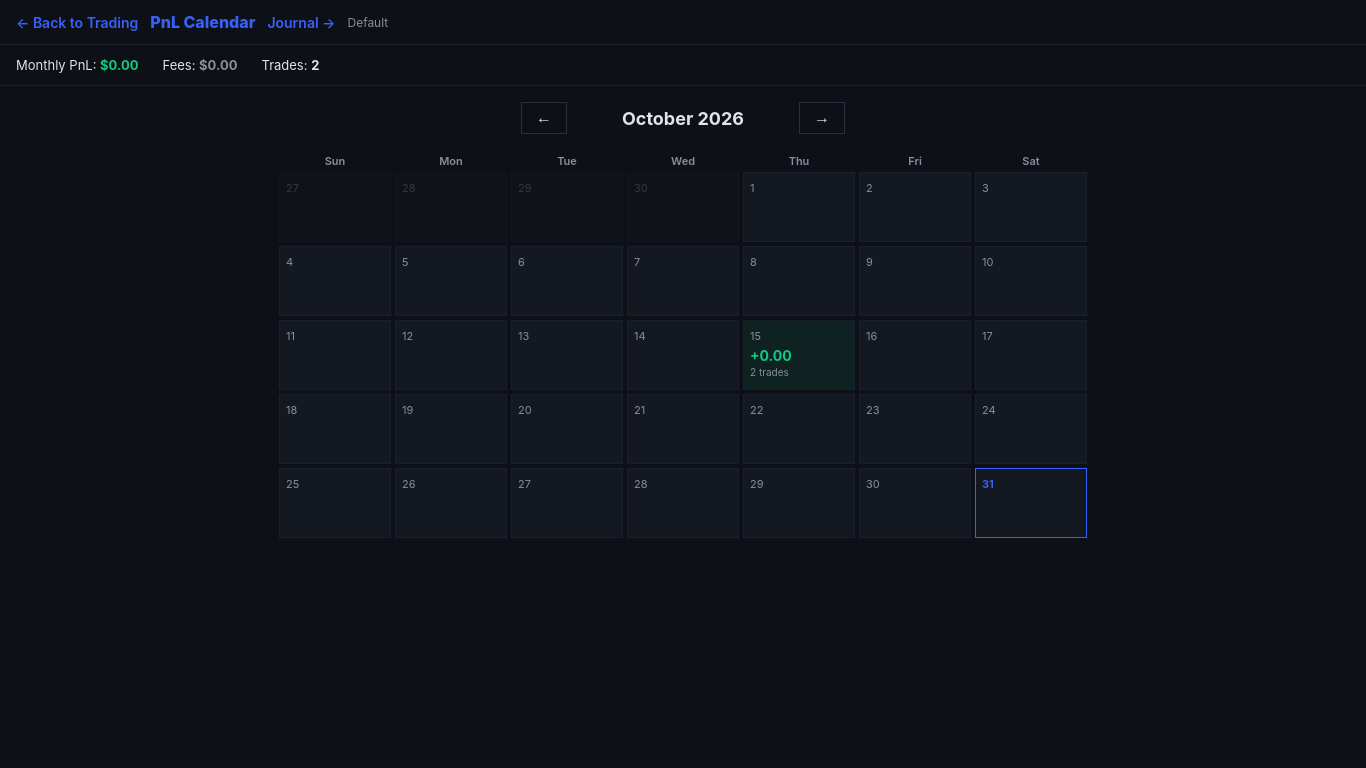
Scenario: PnlCalendar — spread group rendering › expands and collapses a spread to show individual leg rows on click
The image size is (1366, 768).
Click the element showing "15 +0.00 2 trades".
click(799, 355)  # box [743,320,855,390]
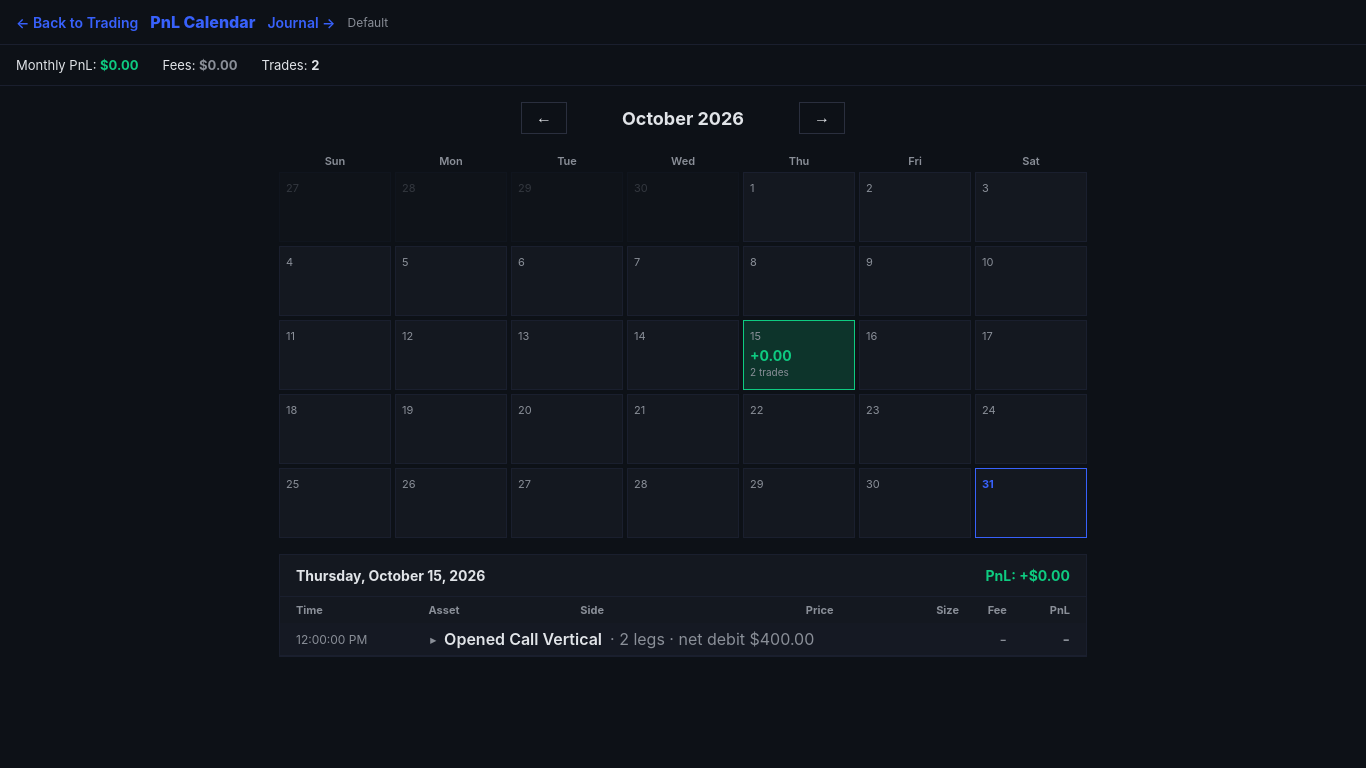
Expected: the text "$6.00" is not shown
Expected: the text "$2.00" is not shown
Click the row titled "expand legs".
click(683, 639)  # box [280,623,1086,656]
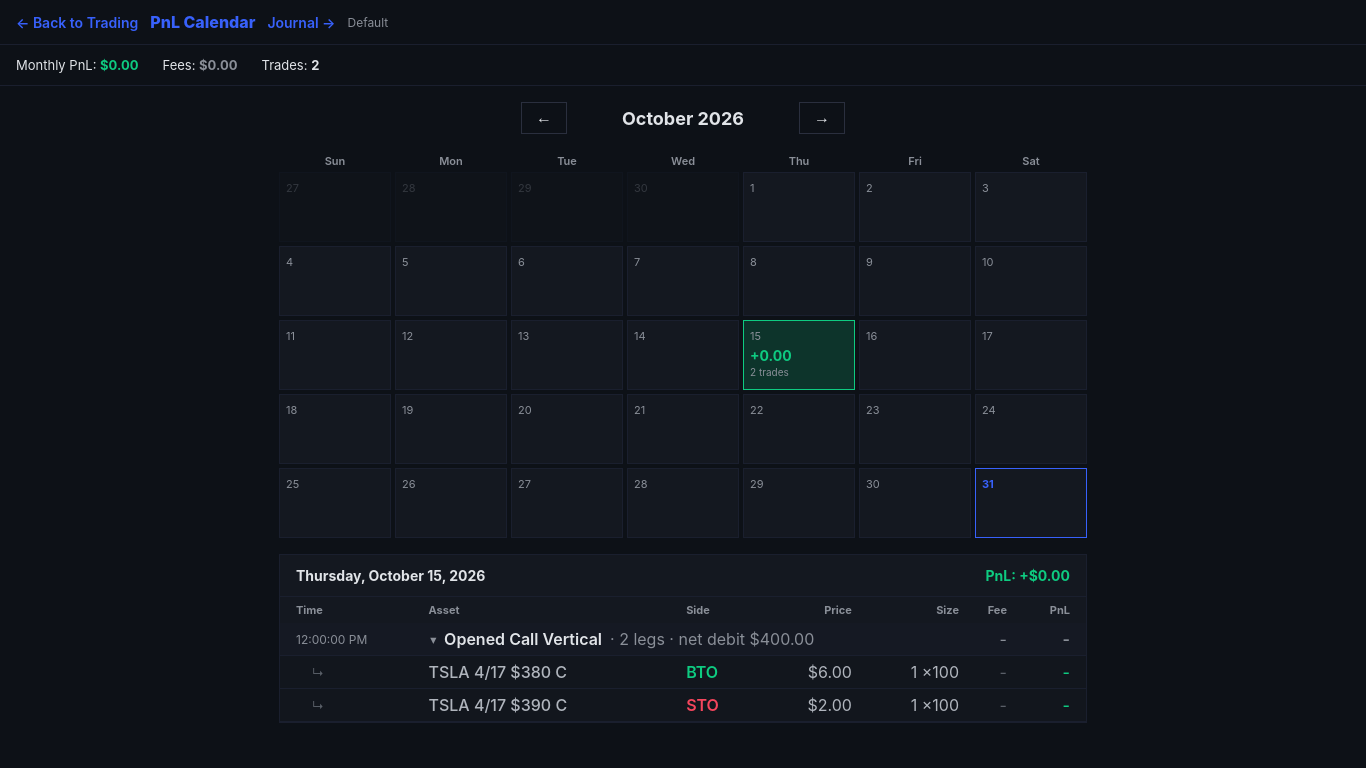
Expected: the text "BTO" is shown, [678,656,759,688]
Expected: the text "STO" is shown, [678,688,759,722]
Expected: the text "$6.00" is shown, [759,656,860,688]
Click the row titled "collapse legs".
click(683, 639)  # box [280,623,1086,656]
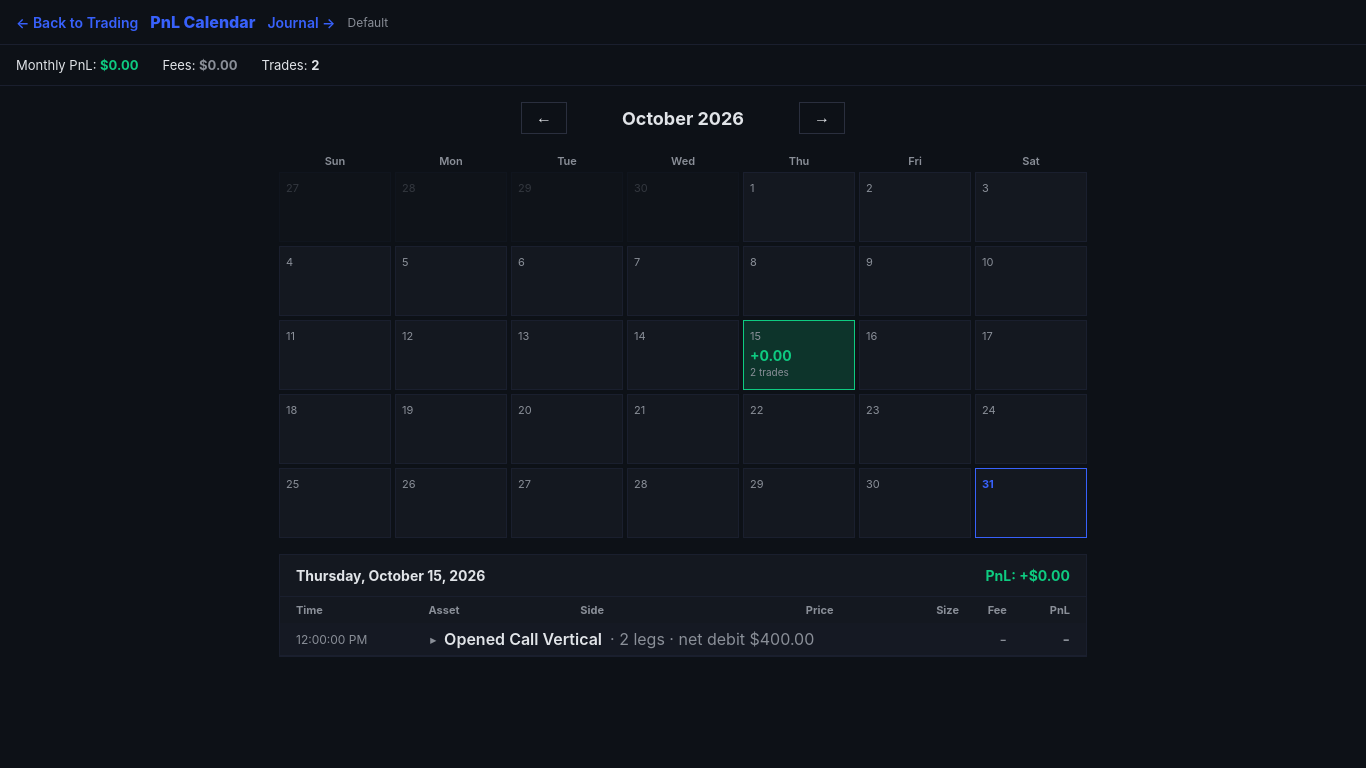
Expected: the text "$6.00" is gone
Expected: the row titled "expand legs" is shown, [280,623,1086,656]
